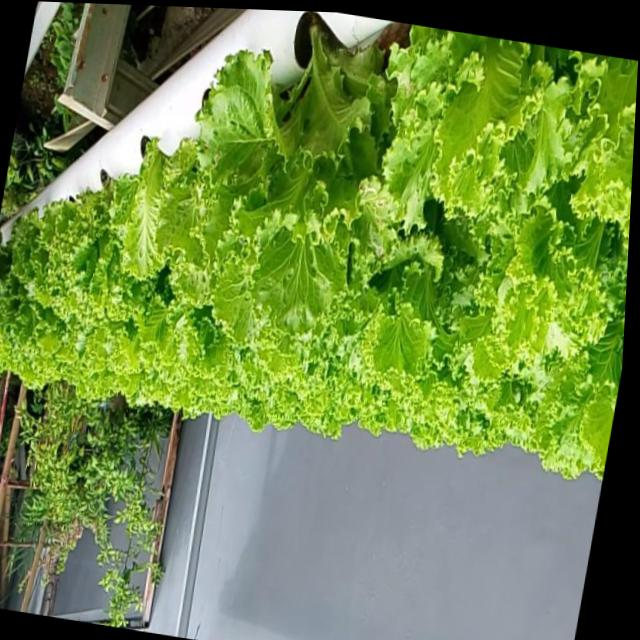Mature: (0, 14, 638, 482), (159, 14, 398, 341), (31, 173, 146, 331)
